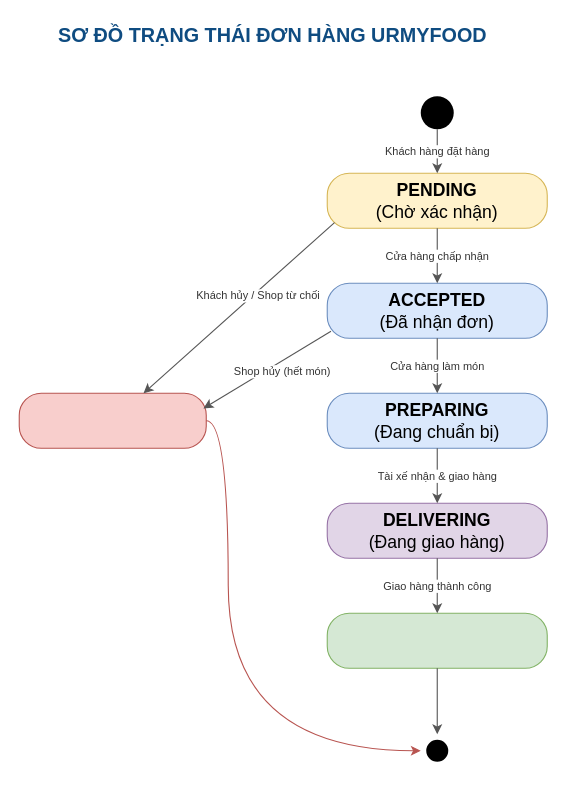
The diagram is 567 pixels wide and 787 high, and some of its shapes have lost their labels. Here are the shapes that lost their labels. From the top down, the centre of each, then its label:
At point (112, 420): "CANCELLED (Đã hủy đơn)".
At point (436, 640): "DELIVERED (Đã giao / Hoàn thành)".
